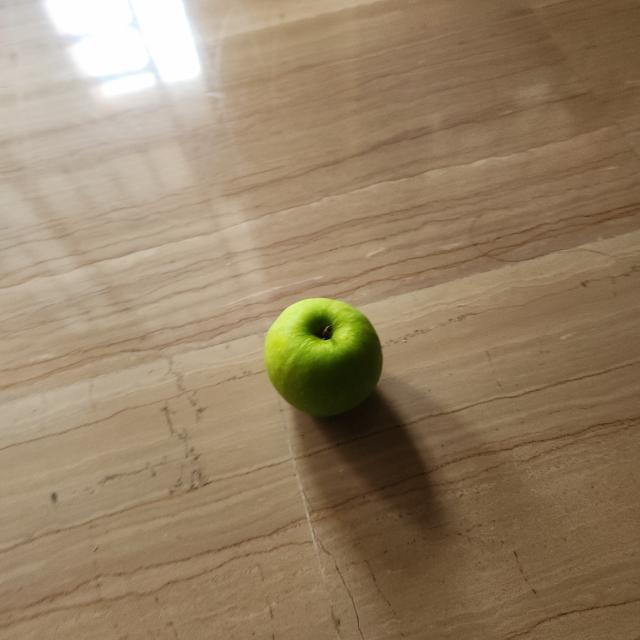apple: (258, 291, 388, 432)
